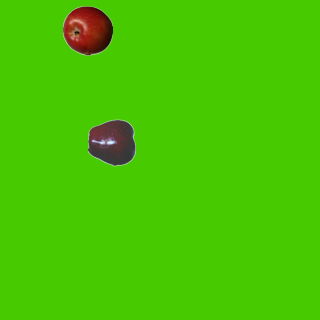Apple Braeburn: (62, 5, 112, 55)
Apple Red Delicious: (87, 117, 137, 167)
